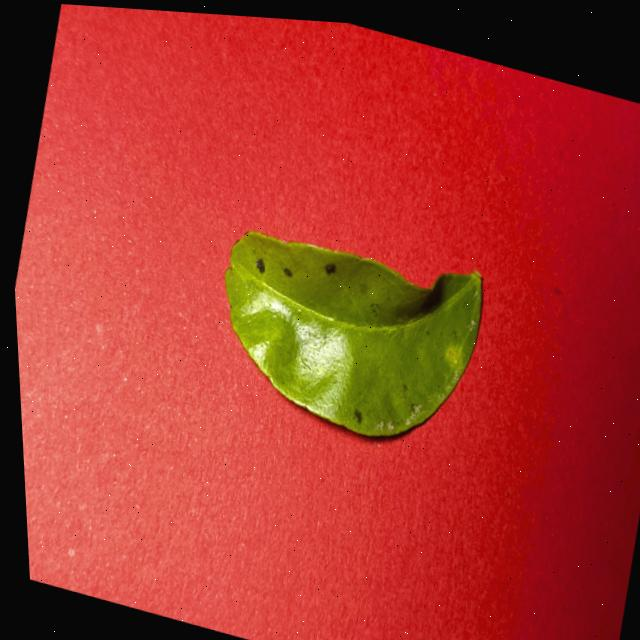sooty_mold: (225, 231, 482, 433)
